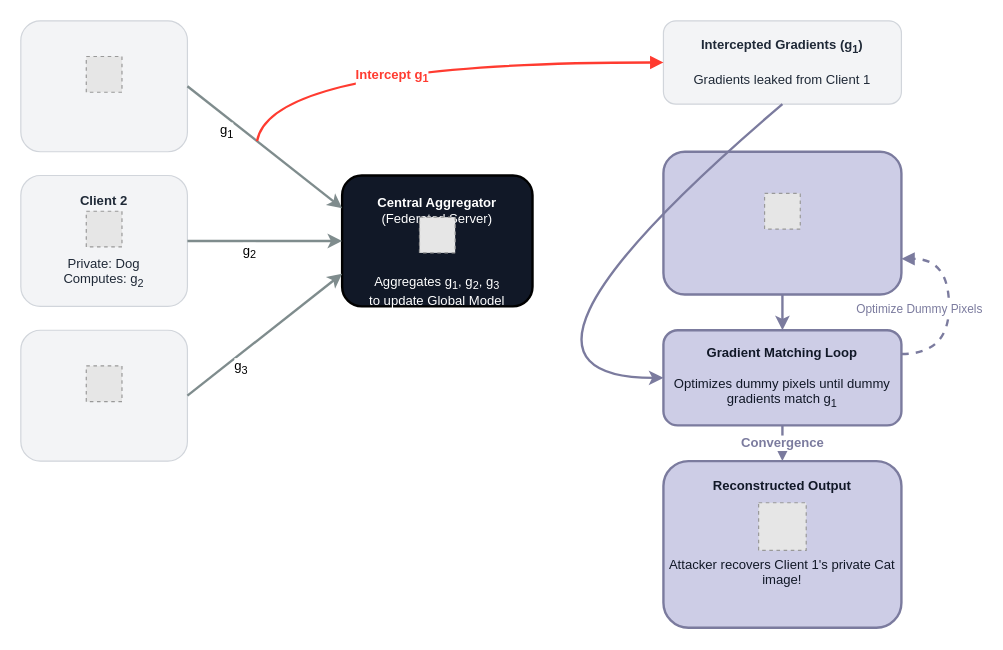
Image size: 1003x650. Some labels were removed from this diagram. Grey dashed boxes stand in for pictures. Each missing label, with the box of its shape:
Client 1 Private: Cat Computes: g 1: (20, 20, 187, 152)
Client 3 Private: Bird Computes: g 3: (20, 329, 187, 461)
Dummy Input (x*) Starts as random pixel noise: (662, 150, 902, 295)
